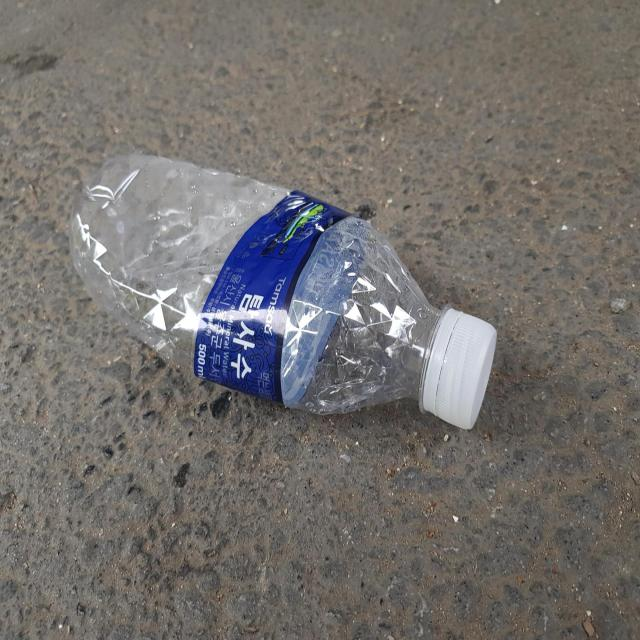plastic: (69, 154, 497, 429)
